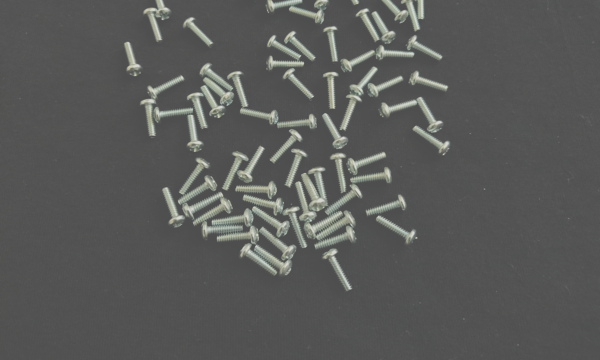shortscrew: (238, 243, 278, 278), (322, 248, 353, 293), (253, 245, 293, 279), (376, 216, 418, 247), (179, 157, 212, 196), (269, 129, 304, 165), (260, 227, 297, 261), (252, 206, 291, 238), (182, 193, 225, 222), (317, 211, 358, 241), (192, 198, 234, 227), (413, 126, 451, 158), (178, 176, 218, 206), (325, 185, 363, 216), (238, 145, 267, 185), (282, 68, 316, 102), (304, 212, 345, 240), (315, 226, 358, 252), (222, 151, 249, 192), (183, 17, 216, 50), (365, 194, 408, 219), (283, 206, 308, 249), (162, 187, 187, 230), (284, 148, 310, 189), (322, 113, 350, 151), (406, 35, 445, 62), (146, 75, 185, 102), (417, 97, 445, 134), (347, 151, 388, 176), (285, 30, 317, 62), (199, 63, 234, 92), (302, 173, 327, 213), (243, 195, 285, 218), (203, 78, 235, 108), (266, 35, 302, 61), (339, 94, 363, 133), (340, 49, 377, 74), (200, 86, 227, 120), (371, 11, 397, 46), (308, 165, 329, 208), (349, 67, 378, 98), (409, 71, 449, 93), (216, 226, 260, 246), (187, 93, 210, 131), (368, 75, 404, 99), (201, 221, 244, 241), (378, 98, 417, 120), (209, 209, 254, 228), (228, 71, 250, 109), (151, 106, 195, 125), (236, 181, 278, 200), (357, 8, 380, 42), (240, 108, 279, 128), (329, 153, 348, 194), (278, 114, 318, 133), (289, 6, 325, 27), (351, 167, 393, 185), (379, 0, 409, 25), (144, 8, 164, 45), (123, 42, 143, 78), (266, 56, 304, 74), (322, 73, 340, 111), (187, 115, 205, 153), (375, 45, 415, 62), (141, 99, 158, 139), (401, 0, 421, 33), (266, 0, 303, 16), (324, 26, 339, 64), (152, 0, 173, 21), (413, 0, 429, 19), (310, 0, 330, 10), (336, 0, 360, 6), (246, 0, 278, 3)
